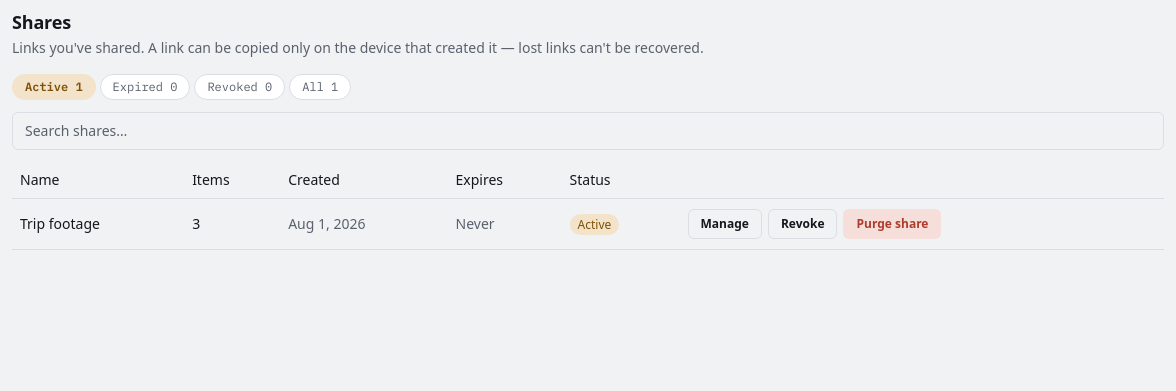
Test case: SharesSection › shows the no-match empty state for a non-matching search
The image size is (1176, 391).
Expected: the text "Trip footage" is shown, [12, 198, 184, 249]
Type "nonexistent" into the search field labelled "Search shares…".
click(588, 131); type("nonexistent")  # box [12, 112, 1164, 150]
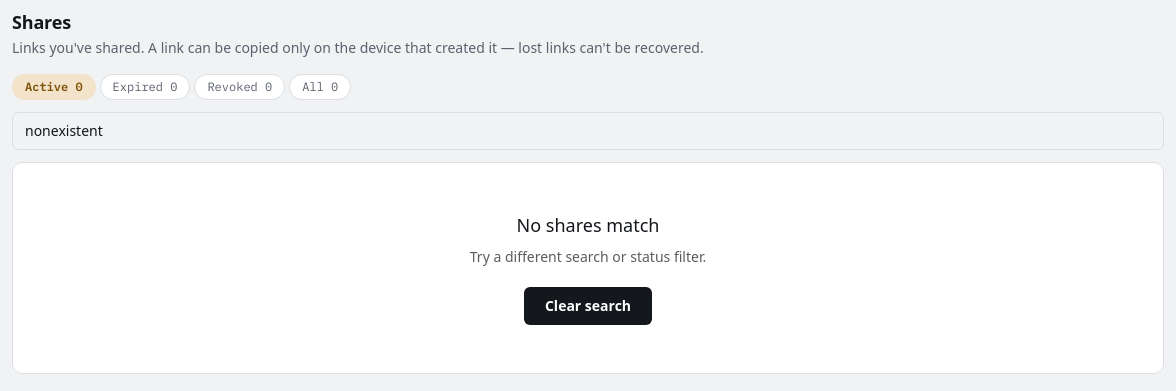
Now the text "No shares match" is shown, box [517, 213, 659, 237]
